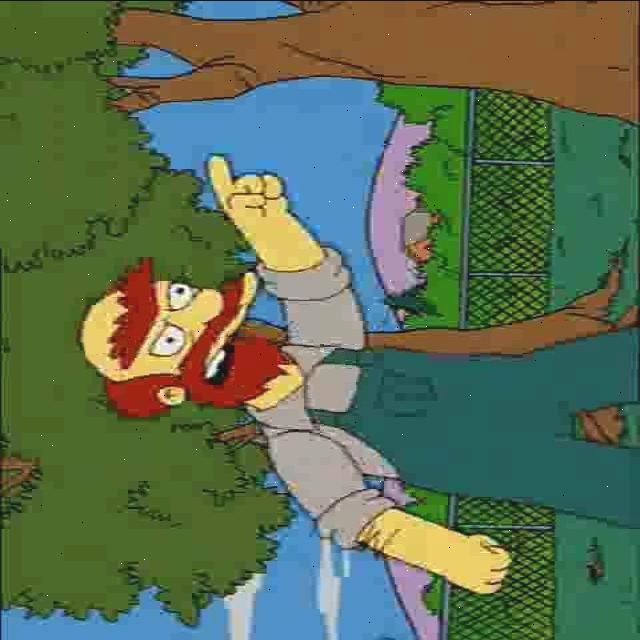Groundskeeper Willie: (79, 258, 292, 420)
